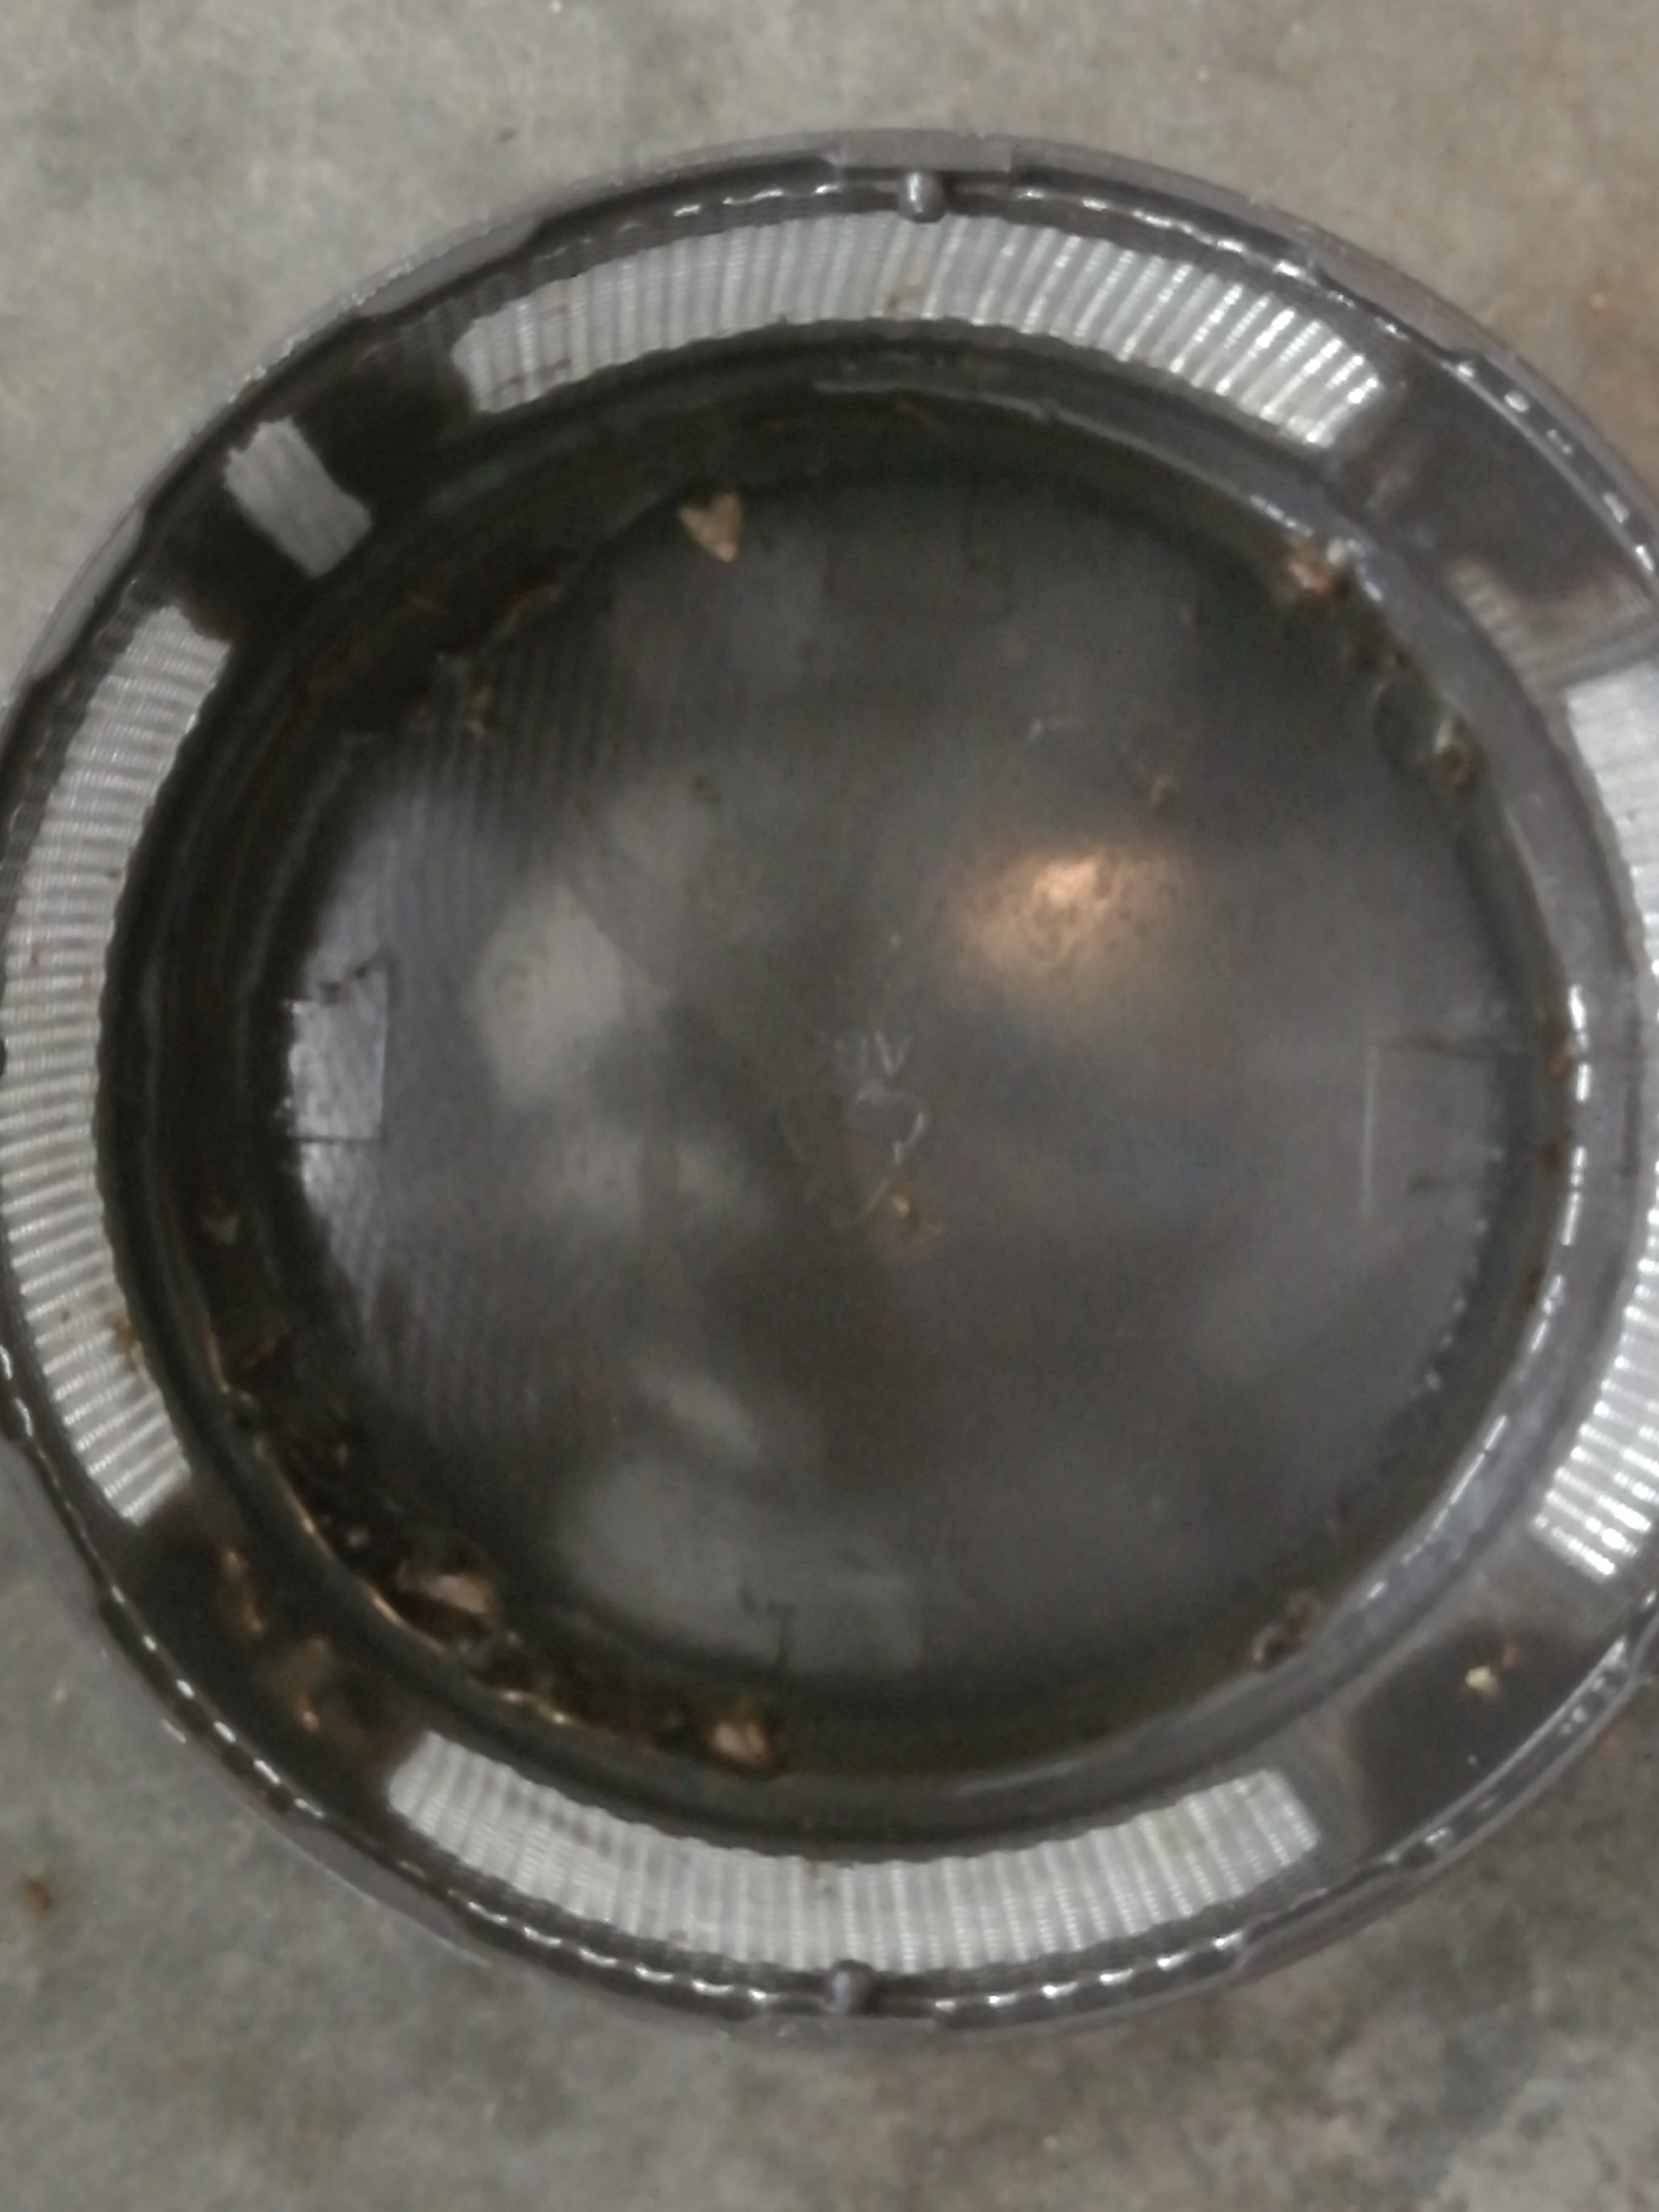moth: (678, 489, 744, 561)
